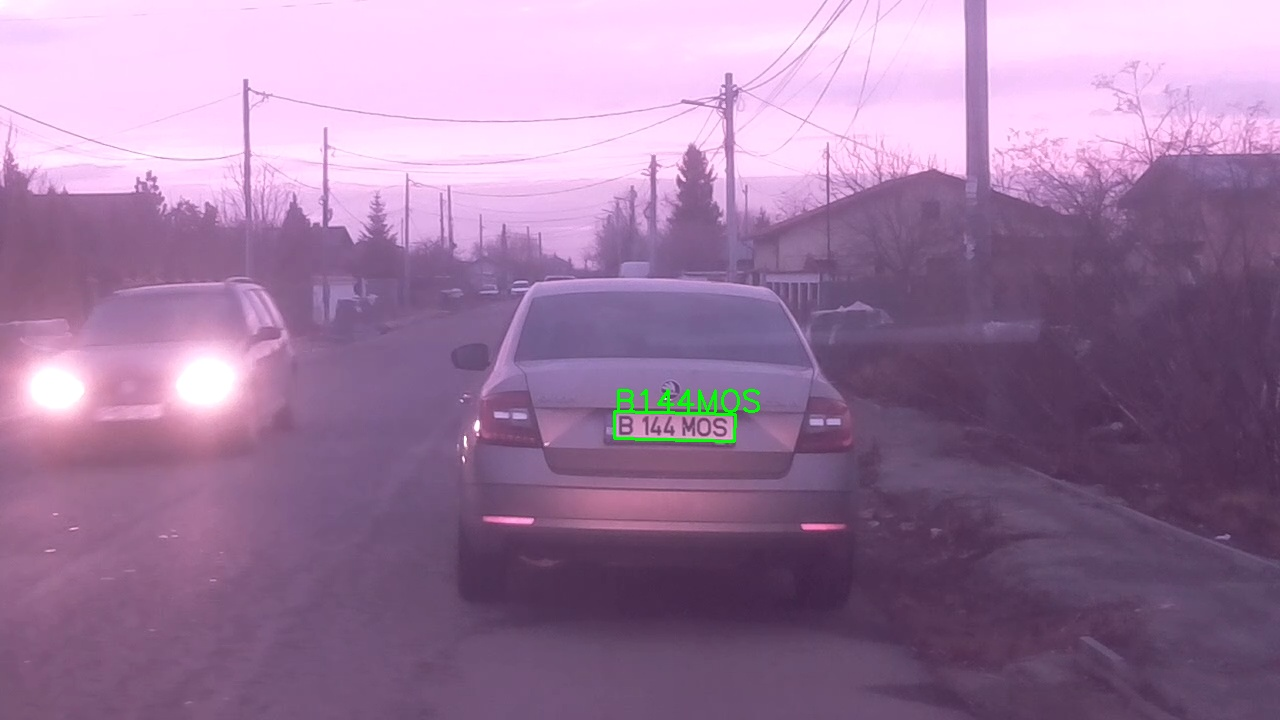license-plate: (613, 411, 736, 442)
